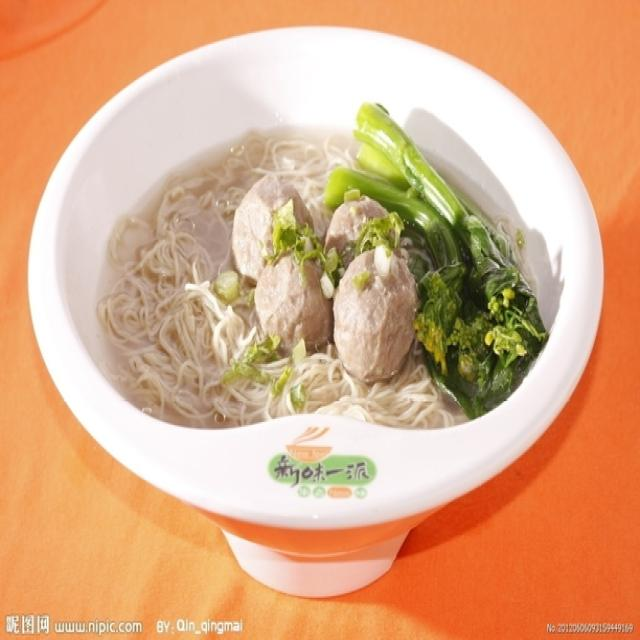面条主食: (88, 127, 503, 436)
